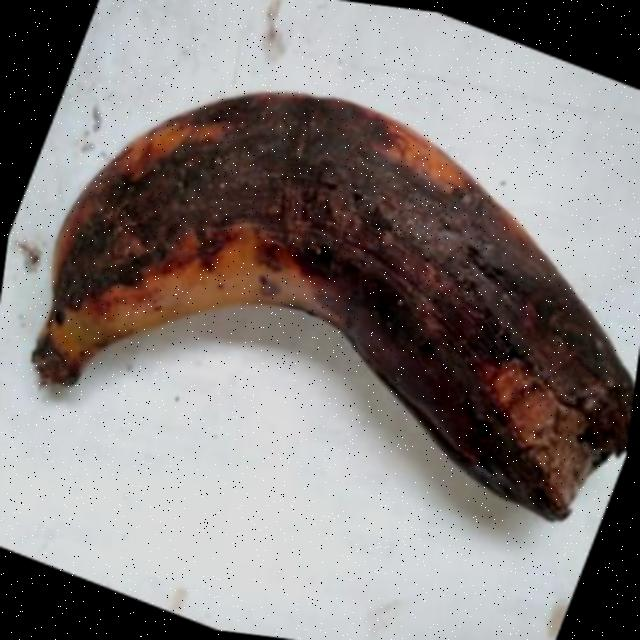Rotten: (0, 29, 640, 548)
